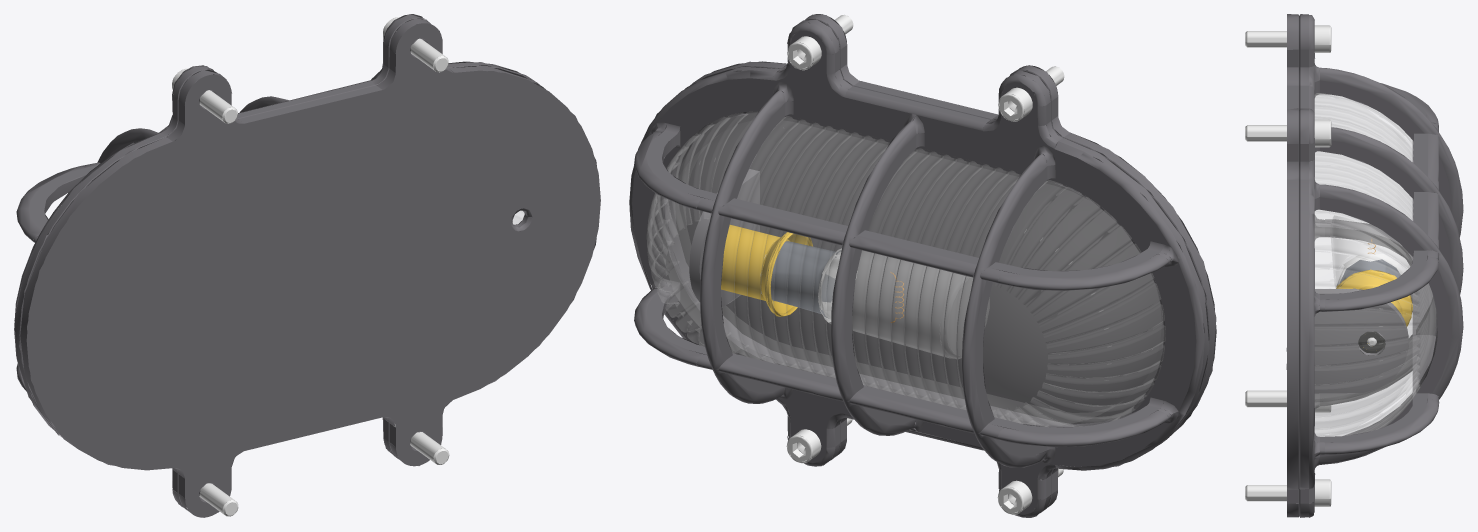
File: ShipLamp.glb
3 renders of one model, left to right at view 1: azimuth 30°, elevation 25°; view 2: azimuth 150°, elevation 25°; view 3: azimuth 270°, elevation 25°, orthographic. The views are drawn at different scales.
Parts seen in each view (by area): view 1: ShipLamp, DIN 912 - M6 x 25 (A4 - 70):1, DIN 912 - M6 x 25 (A4 - 70):2, DIN 912 - M6 x 25 (A4 - 70):3, DIN 912 - M6 x 25 (A4 - 70):4; view 2: ShipLamp, Nostalgic lamp glass |:1.001, Lamp 1 |:1, Fitting |:1, DIN 912 - M6 x 25 (A4 - 70):1, DIN 912 - M6 x 25 (A4 - 70):2, DIN 912 - M6 x 25 (A4 - 70):3, DIN 912 - M6 x 25 (A4 - 70):4; view 3: ShipLamp, Nostalgic lamp glass |:1.001, Lamp 1 |:1, Fitting |:1, DIN 912 - M6 x 25 (A4 - 70):2, DIN 912 - M6 x 25 (A4 - 70):1, DIN 912 - M6 x 25 (A4 - 70):4, DIN 912 - M6 x 25 (A4 - 70):3.
Boxes of the visible parts, x1,y1,x2,y2 form: ShipLamp: (14, 14, 600, 517); DIN 912 - M6 x 25 (A4 - 70):1: (172, 68, 237, 123); DIN 912 - M6 x 25 (A4 - 70):2: (383, 17, 448, 72); DIN 912 - M6 x 25 (A4 - 70):3: (199, 483, 238, 516); DIN 912 - M6 x 25 (A4 - 70):4: (394, 424, 449, 464); ShipLamp: (629, 14, 1216, 517); Nostalgic lamp glass |:1.001: (647, 112, 1164, 426); Lamp 1 |:1: (760, 241, 989, 358); Fitting |:1: (721, 224, 903, 322); DIN 912 - M6 x 25 (A4 - 70):1: (998, 66, 1064, 121); DIN 912 - M6 x 25 (A4 - 70):2: (787, 15, 853, 70); DIN 912 - M6 x 25 (A4 - 70):3: (997, 468, 1063, 514); DIN 912 - M6 x 25 (A4 - 70):4: (786, 418, 852, 463); ShipLamp: (1286, 14, 1463, 517); Nostalgic lamp glass |:1.001: (1314, 93, 1436, 436); Lamp 1 |:1: (1330, 193, 1409, 337); Fitting |:1: (1336, 239, 1412, 355); DIN 912 - M6 x 25 (A4 - 70):2: (1245, 119, 1331, 147); DIN 912 - M6 x 25 (A4 - 70):1: (1245, 25, 1331, 52); DIN 912 - M6 x 25 (A4 - 70):4: (1245, 479, 1331, 506); DIN 912 - M6 x 25 (A4 - 70):3: (1245, 390, 1331, 412).
Size of the model in its own units: 0.2197 by 0.1618 by 0.0789.
